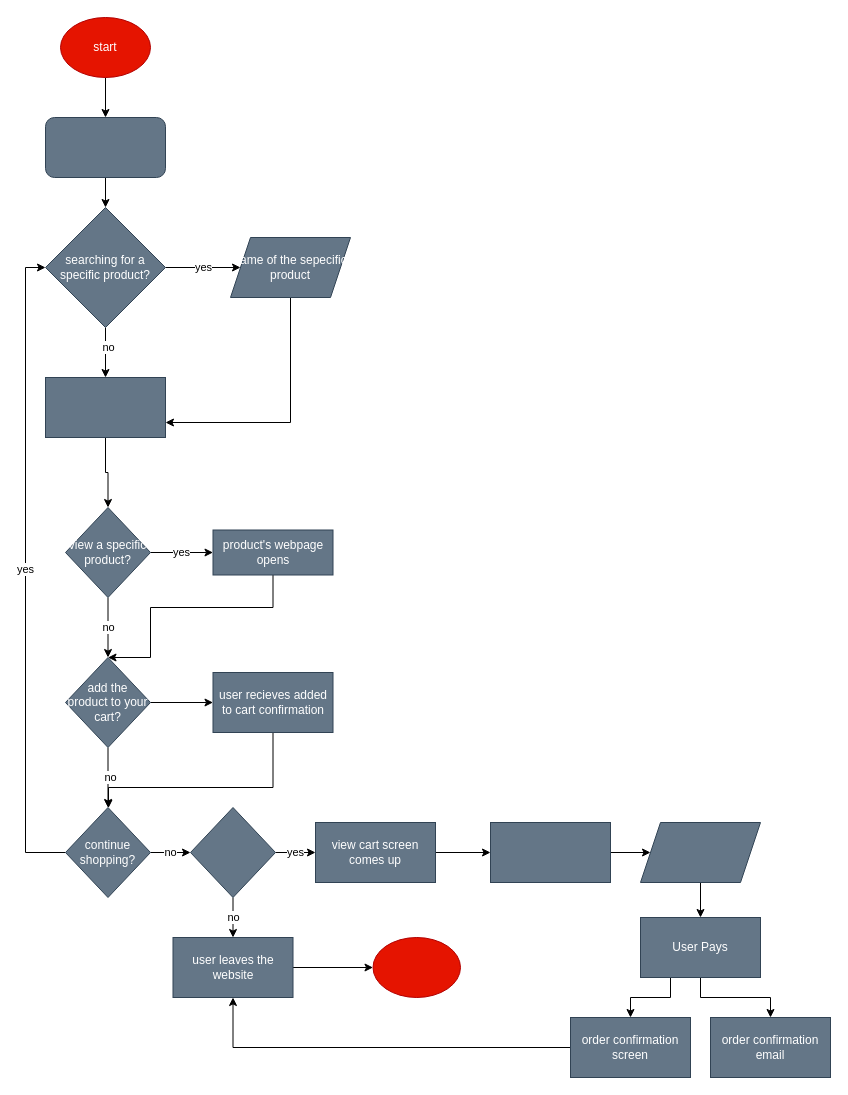
Some shapes in this 848 by 1095 pixel diagram are drawn without their labels. Each missing label, with the centre of its shape:
checkout?: (233,852)
end: (416,967)
look over the products: (105,407)
User Enters the Website: (105,147)
user's payment information: (700,852)
View Payment Screen comes up: (550,852)
